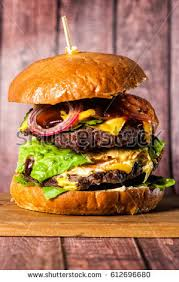hamburger: (6, 50, 173, 219)
